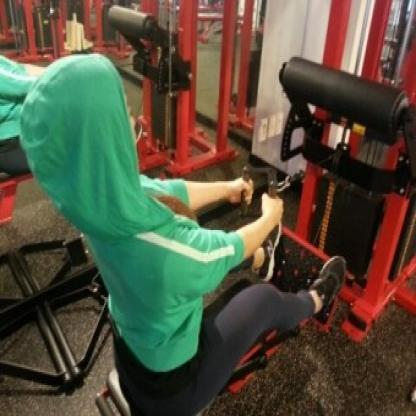Seated Cable Rows: (27, 0, 416, 416)
